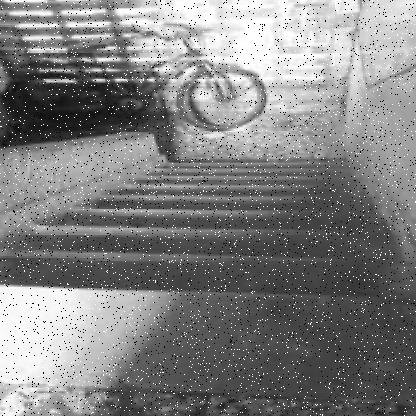stair_down: (51, 186, 323, 346)
